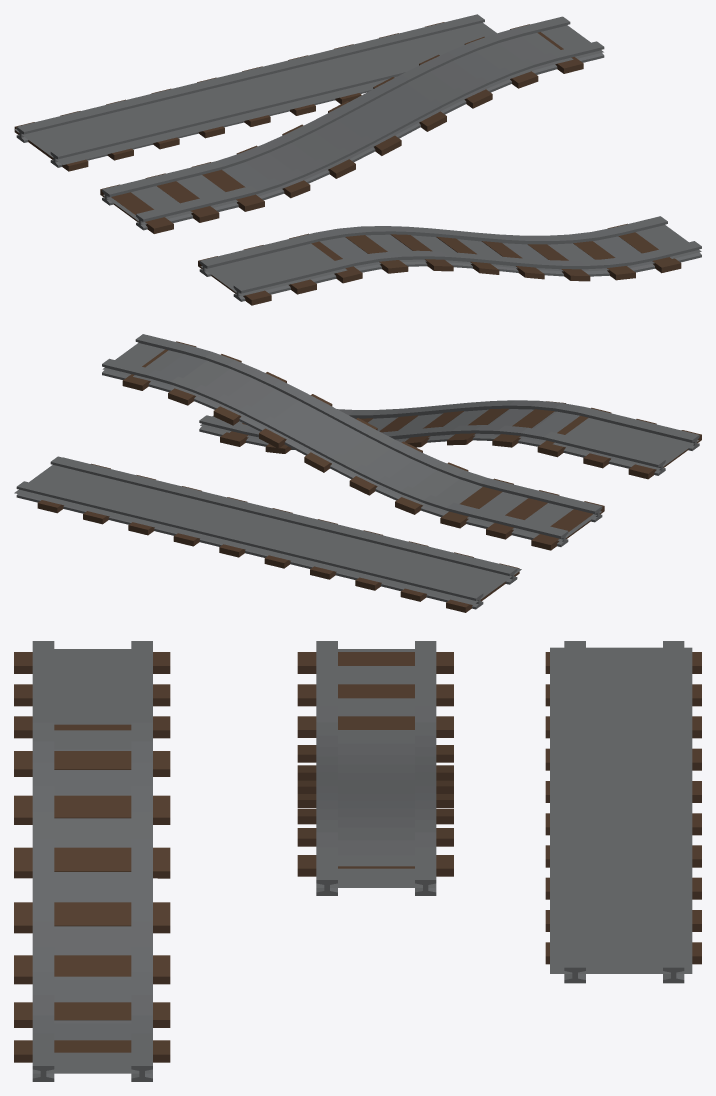
The model's file is Vias.fbx.
The picture shows the model from 3 angles, top to bottom: view 1: azimuth 30°, elevation 25°; view 2: azimuth 150°, elevation 25°; view 3: azimuth 270°, elevation 25°; orthographic projection. The views are drawn at different scales.
Parts seen in each view (by area): view 1: Cube.001, Cube.002, Cube.003, Cube.004, Cube, Cube.005; view 2: Cube.001, Cube.003, Cube, Cube.004, Cube.002, Cube.005; view 3: Cube.002, Cube.003, Cube.005, Cube.001, Cube, Cube.004.
Boxes of the visible parts, bbox=[...] form: Cube.001: bbox=[100, 16, 604, 233]; Cube.002: bbox=[198, 216, 701, 305]; Cube.003: bbox=[14, 22, 496, 164]; Cube.004: bbox=[103, 25, 603, 224]; Cube: bbox=[14, 14, 484, 171]; Cube.005: bbox=[200, 225, 701, 296]; Cube.001: bbox=[102, 334, 604, 550]; Cube.003: bbox=[14, 457, 521, 604]; Cube: bbox=[16, 456, 519, 612]; Cube.004: bbox=[102, 343, 601, 541]; Cube.002: bbox=[199, 400, 701, 479]; Cube.005: bbox=[200, 409, 698, 469]; Cube.002: bbox=[14, 641, 170, 1081]; Cube.003: bbox=[550, 647, 692, 973]; Cube.005: bbox=[32, 649, 151, 1073]; Cube.001: bbox=[297, 641, 453, 895]; Cube: bbox=[545, 641, 701, 983]; Cube.004: bbox=[316, 649, 435, 887].
Size of the model in its own units: 745 by 215 by 664.
